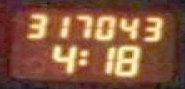0: (93, 13, 115, 40)
1: (97, 42, 113, 75), (55, 13, 70, 38)
3: (23, 10, 48, 39), (140, 13, 163, 43)
4: (45, 41, 75, 75), (115, 15, 138, 39)
7: (73, 12, 93, 38)
8: (113, 43, 140, 77)
X: (75, 47, 88, 67)
